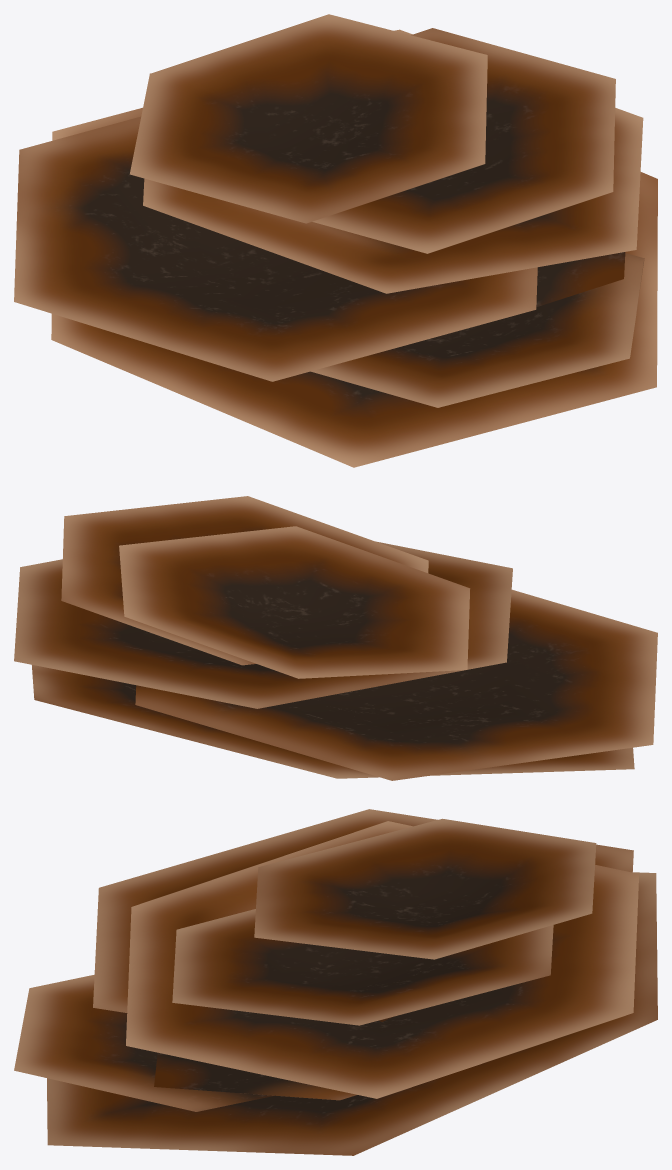
Rendered from art_3D model_Environment_Trametes 22.fbx.
3 renders of one model, top to bottom at view 1: azimuth 30°, elevation 25°; view 2: azimuth 150°, elevation 25°; view 3: azimuth 270°, elevation 25°, orthographic. The views are drawn at different scales.
Parts seen in each view (by area): view 1: Jamur terminator; view 2: Jamur terminator; view 3: Jamur terminator.
Boxes of the visible parts, x1,y1,x2,y2 form: Jamur terminator: (14,14,657,467); Jamur terminator: (14,496,657,780); Jamur terminator: (14,809,657,1155).
Bounding box in the file's own units: 44.76 × 13.46 × 38.16.
Materials: 1 (1 with a texture image).
